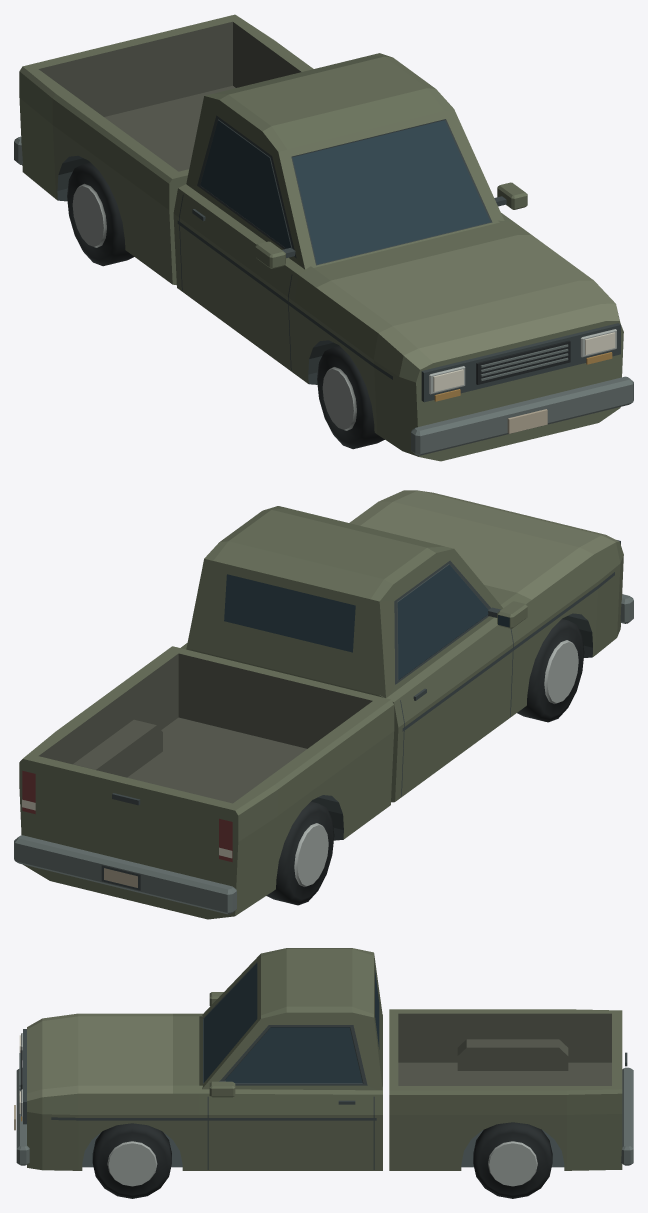
The model's file is Turner_OldPickup.fbx.
3 views of the same model, one above another, from view 1: azimuth 30°, elevation 25°; view 2: azimuth 150°, elevation 25°; view 3: azimuth 270°, elevation 25° (orthographic). The views are drawn at different scales.
Visible parts, largest first — view 1: Turner_Truck_Hood_And_Lower_Cab, Turner_Truck_Cabin, Turner_Truck_Cargo_Bed_Interior, Turner_Truck_Cargo_Bed_Shell, Turner_Truck_FrontFascia, Turner_Truck_Bumpers, Turner_Truck_Wheel_Rear_Left, Turner_Truck_Wheel_Front_Left, Turner_Truck_Mirrors, Turner_Truck_Door_Trim; view 2: Turner_Truck_Cabin, Turner_Truck_Hood_And_Lower_Cab, Turner_Truck_Cargo_Bed_Interior, Turner_Truck_Cargo_Bed_Shell, Turner_Truck_Bumpers, Turner_Truck_Door_Trim, Turner_Truck_Wheel_Rear_Left, Turner_Truck_Wheel_Front_Left, Turner_Truck_Lights_Grille_Plates, Turner_Truck_Mirrors; view 3: Turner_Truck_Hood_And_Lower_Cab, Turner_Truck_Cabin, Turner_Truck_Cargo_Bed_Interior, Turner_Truck_Cargo_Bed_Shell, Turner_Truck_Wheel_Rear_Right, Turner_Truck_Wheel_Front_Right, Turner_Truck_Bumpers, Turner_Truck_Door_Trim, Turner_Truck_FrontFascia, Turner_Truck_Mirrors.
Boxes of the visible parts, box(x1,y1,x2,y2) form: Turner_Truck_Hood_And_Lower_Cab: box(173, 184, 623, 461); Turner_Truck_Cabin: box(186, 53, 504, 269); Turner_Truck_Cargo_Bed_Interior: box(23, 14, 313, 178); Turner_Truck_Cargo_Bed_Shell: box(19, 66, 187, 284); Turner_Truck_FrontFascia: box(421, 323, 620, 433); Turner_Truck_Bumpers: box(14, 136, 633, 455); Turner_Truck_Wheel_Rear_Left: box(67, 162, 134, 266); Turner_Truck_Wheel_Front_Left: box(317, 345, 384, 449); Turner_Truck_Mirrors: box(255, 182, 527, 268); Turner_Truck_Door_Trim: box(177, 194, 392, 379); Turner_Truck_Cabin: box(186, 506, 502, 697); Turner_Truck_Hood_And_Lower_Cab: box(181, 490, 623, 802); Turner_Truck_Cargo_Bed_Interior: box(23, 646, 390, 810); Turner_Truck_Cargo_Bed_Shell: box(19, 700, 394, 919); Turner_Truck_Bumpers: box(14, 594, 633, 914); Turner_Truck_Door_Trim: box(39, 572, 614, 844); Turner_Truck_Wheel_Rear_Left: box(266, 801, 334, 905); Turner_Truck_Wheel_Front_Left: box(517, 619, 584, 722); Turner_Truck_Lights_Grille_Plates: box(22, 770, 232, 890); Turner_Truck_Mirrors: box(488, 601, 527, 628); Turner_Truck_Hood_And_Lower_Cab: box(27, 1013, 382, 1170); Turner_Truck_Cabin: box(199, 948, 382, 1090); Turner_Truck_Cargo_Bed_Interior: box(389, 1009, 622, 1090); Turner_Truck_Cargo_Bed_Shell: box(389, 1089, 622, 1170); Turner_Truck_Wheel_Rear_Right: box(473, 1122, 552, 1198); Turner_Truck_Wheel_Front_Right: box(92, 1123, 171, 1198); Turner_Truck_Bumpers: box(16, 1067, 633, 1165); Turner_Truck_Door_Trim: box(51, 1052, 627, 1169); Turner_Truck_FrontFascia: box(14, 1029, 26, 1130); Turner_Truck_Mirrors: box(209, 992, 235, 1097).
Size of the model in its own units: 1.94 by 1.71 by 5.31.
